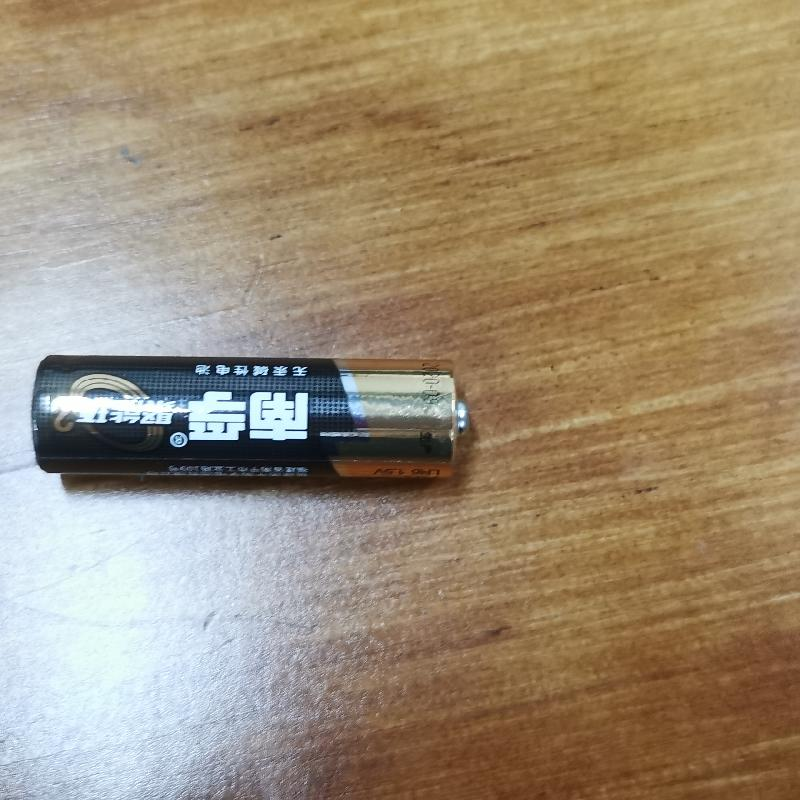battery: (29, 337, 476, 503)
